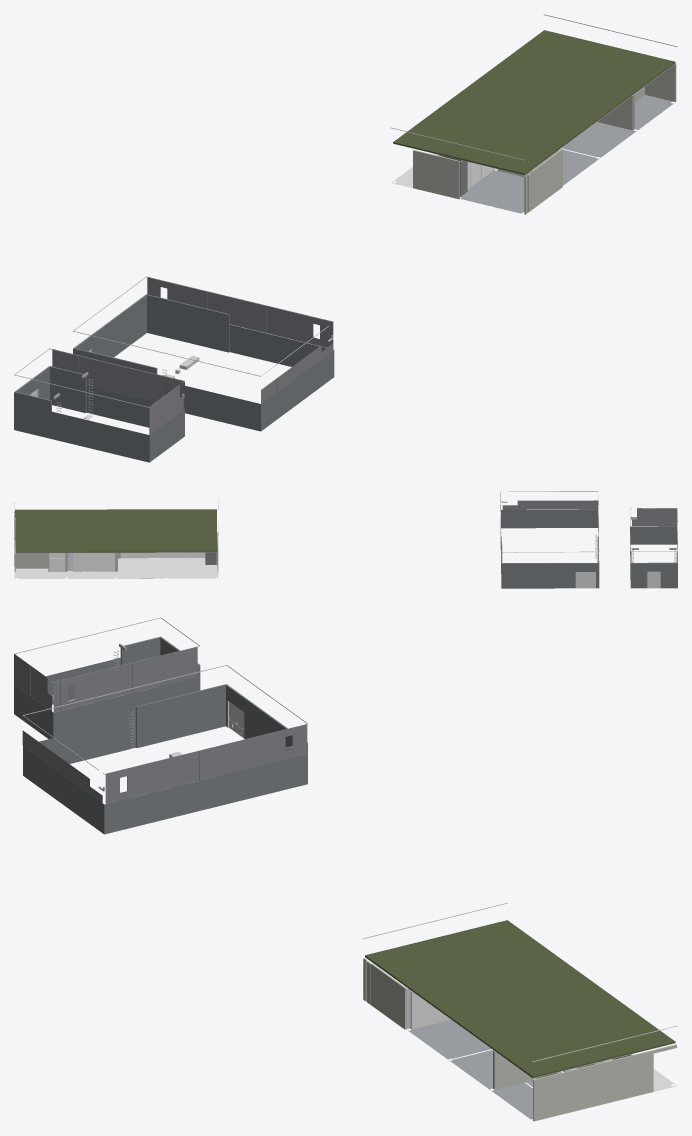
The model's file is pt-109-tanque-hq-p01-v00.glb.
The picture shows the model from 3 angles, top to bottom: view 1: azimuth 30°, elevation 25°; view 2: azimuth 150°, elevation 25°; view 3: azimuth 270°, elevation 25°; orthographic projection. The views are drawn at different scales.
Visible parts, largest first — view 1: 3v_4KB2UD8hRMYfpgJ2ThV, 1V8qYdYFbFnA06093ETU1Q, 1mUeUaqjz1gw$kZhW5y8N9, 1mUeUaqjz1gw$kZhW5y8zu, 1mUeUaqjz1gw$kZhW5y8z0, 3v_4KB2UD8hRMYfpYJ2Ttm, 1mUeUaqjz1gw$kZhW5y8yh, 2qTRarLmr5L8ACHmbQyENO, 0Zpb2m_sPFtwlrlVuveaGv, 1mUeUaqjz1gw$kZhW5y8U2, 2qTRarLmr5L8ACHmbQyDyx, 1Ns2G56s9E2fF4Y5WCSkuT (+8 smaller); view 2: 3v_4KB2UD8hRMYfpgJ2ThV, 2qTRarLmr5L8ACHmbQyEVh, 3v_4KB2UD8hRMYfpYJ2Ttm, 1mUeUaqjz1gw$kZhW5y8yh, 3v_4KB2UD8hRMYfpYJ2TtD, 1mUeUaqjz1gw$kZhW5y8Ge, 3v_4KB2UD8hRMYfpYJ2Te0, 3v_4KB2UD8hRMYfpYJ2TfW, 3v_4KB2UD8hRMYfpYJ2TsE, 3v_4KB2UD8hRMYfpYJ2TsF, 3v_4KB2UD8hRMYfpYJ2Tha, 3v_4KB2UD8hRMYfpYJ2Te1 (+2 smaller); view 3: 3v_4KB2UD8hRMYfpgJ2ThV, 3t0cMCtJDBARfPt260qVbn, 1V8qYdYFbFnA06093ETUm1, 1mUeUaqjz1gw$kZhW5y8z0, 1V8qYdYFbFnA06093ETU1Q, 1mUeUaqjz1gw$kZhW5y8zu, 1mUeUaqjz1gw$kZhW5y8U2, 1mUeUaqjz1gw$kZhW5y8yh, 2qTRarLmr5L8ACHmbQyDZ7, 3t0cMCtJDBARfPt260qVfl, 3v_4KB2UD8hRMYfpYJ2Ttm, 1mUeUaqjz1gw$kZhW5y8Ge (+6 smaller).
Boxes of the visible parts, x1=… form: 3v_4KB2UD8hRMYfpgJ2ThV: x1=393, y1=30, x2=675, y2=174; 1V8qYdYFbFnA06093ETU1Q: x1=147, y1=294, x2=229, y2=352; 1mUeUaqjz1gw$kZhW5y8N9: x1=51, y1=411, x2=149, y2=462; 1mUeUaqjz1gw$kZhW5y8zu: x1=165, y1=383, x2=260, y2=431; 1mUeUaqjz1gw$kZhW5y8z0: x1=229, y1=324, x2=333, y2=366; 3v_4KB2UD8hRMYfpYJ2Ttm: x1=74, y1=294, x2=147, y2=357; 1mUeUaqjz1gw$kZhW5y8yh: x1=261, y1=350, x2=334, y2=431; 2qTRarLmr5L8ACHmbQyENO: x1=460, y1=170, x2=524, y2=213; 0Zpb2m_sPFtwlrlVuveaGv: x1=413, y1=150, x2=459, y2=199; 1mUeUaqjz1gw$kZhW5y8U2: x1=86, y1=385, x2=184, y2=427; 2qTRarLmr5L8ACHmbQyDyx: x1=561, y1=122, x2=636, y2=157; 1Ns2G56s9E2fF4Y5WCSkuT: x1=15, y1=392, x2=51, y2=438; 3v_4KB2UD8hRMYfpgJ2ThV: x1=15, y1=509, x2=217, y2=552; 2qTRarLmr5L8ACHmbQyEVh: x1=14, y1=558, x2=218, y2=578; 3v_4KB2UD8hRMYfpYJ2Ttm: x1=501, y1=563, x2=597, y2=588; 1mUeUaqjz1gw$kZhW5y8yh: x1=501, y1=509, x2=598, y2=528; 3v_4KB2UD8hRMYfpYJ2TtD: x1=630, y1=562, x2=677, y2=588; 1mUeUaqjz1gw$kZhW5y8Ge: x1=630, y1=526, x2=677, y2=544; 3v_4KB2UD8hRMYfpYJ2Te0: x1=73, y1=553, x2=114, y2=571; 3v_4KB2UD8hRMYfpYJ2TfW: x1=15, y1=553, x2=48, y2=568; 3v_4KB2UD8hRMYfpYJ2TsE: x1=575, y1=572, x2=595, y2=588; 3v_4KB2UD8hRMYfpYJ2TsF: x1=647, y1=571, x2=660, y2=588; 3v_4KB2UD8hRMYfpYJ2Tha: x1=50, y1=558, x2=64, y2=571; 3v_4KB2UD8hRMYfpYJ2Te1: x1=120, y1=552, x2=166, y2=558; 3v_4KB2UD8hRMYfpgJ2ThV: x1=365, y1=920, x2=675, y2=1077; 3t0cMCtJDBARfPt260qVbn: x1=534, y1=1050, x2=653, y2=1120; 1V8qYdYFbFnA06093ETUm1: x1=136, y1=684, x2=226, y2=747; 1mUeUaqjz1gw$kZhW5y8z0: x1=104, y1=776, x2=217, y2=834; 1V8qYdYFbFnA06093ETU1Q: x1=217, y1=746, x2=306, y2=806; 1mUeUaqjz1gw$kZhW5y8zu: x1=39, y1=717, x2=136, y2=763; 1mUeUaqjz1gw$kZhW5y8U2: x1=53, y1=686, x2=160, y2=737; 1mUeUaqjz1gw$kZhW5y8yh: x1=23, y1=746, x2=104, y2=833; 2qTRarLmr5L8ACHmbQyDZ7: x1=408, y1=1020, x2=491, y2=1059; 3t0cMCtJDBARfPt260qVfl: x1=371, y1=963, x2=406, y2=1029; 3v_4KB2UD8hRMYfpYJ2Ttm: x1=226, y1=684, x2=307, y2=784; 1mUeUaqjz1gw$kZhW5y8Ge: x1=14, y1=684, x2=53, y2=738.
Bounding box in the file's own units: 94.57 × 6.05 × 59.74.
